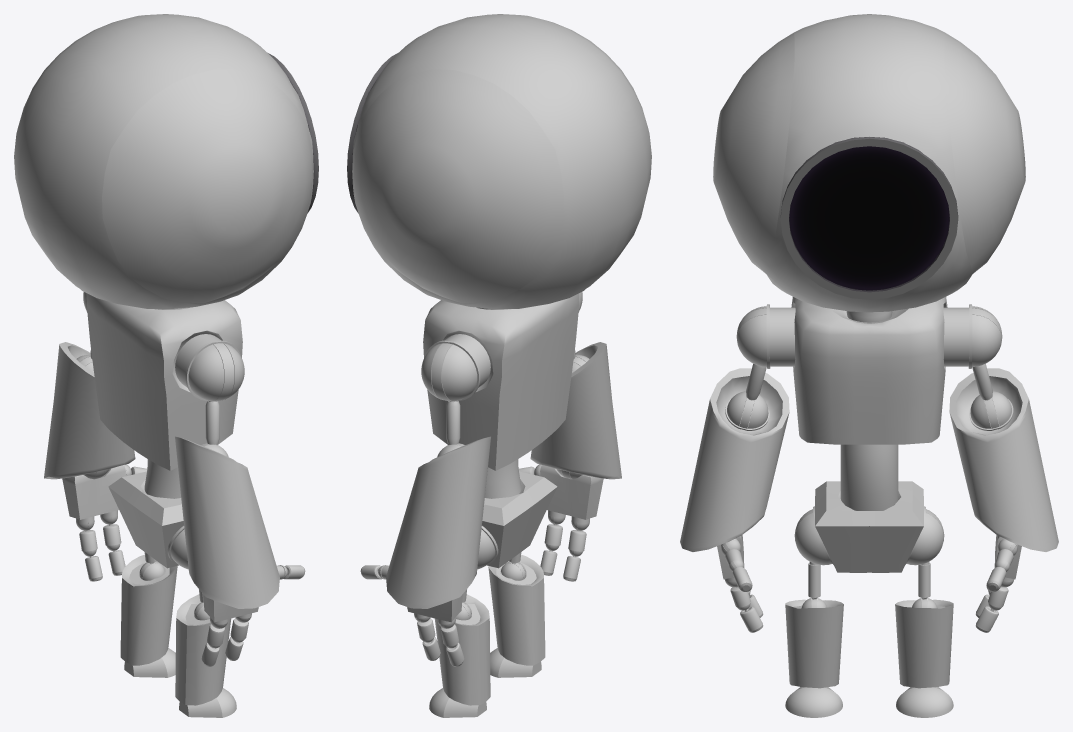
File: RobotCharacter.fbx
3 views of the same model, side by side, from view 1: azimuth 30°, elevation 25°; view 2: azimuth 150°, elevation 25°; view 3: azimuth 270°, elevation 25° (orthographic).
Parts seen in each view (by area): view 1: BakeLP, StomachLP, Face; view 2: BakeLP, StomachLP, Face; view 3: BakeLP, StomachLP, Face.
Part boxes in pixels (x1,y1,x2,y2): BakeLP: (14,14,313,705); StomachLP: (62,292,305,717); Face: (268,53,318,213); BakeLP: (352,14,651,705); StomachLP: (360,292,603,717); Face: (347,53,397,213); BakeLP: (680,14,1058,688); StomachLP: (717,304,1021,717); Face: (780,137,958,299).
Bounding box in the file's own units: 41.87 × 111 × 57.18.
